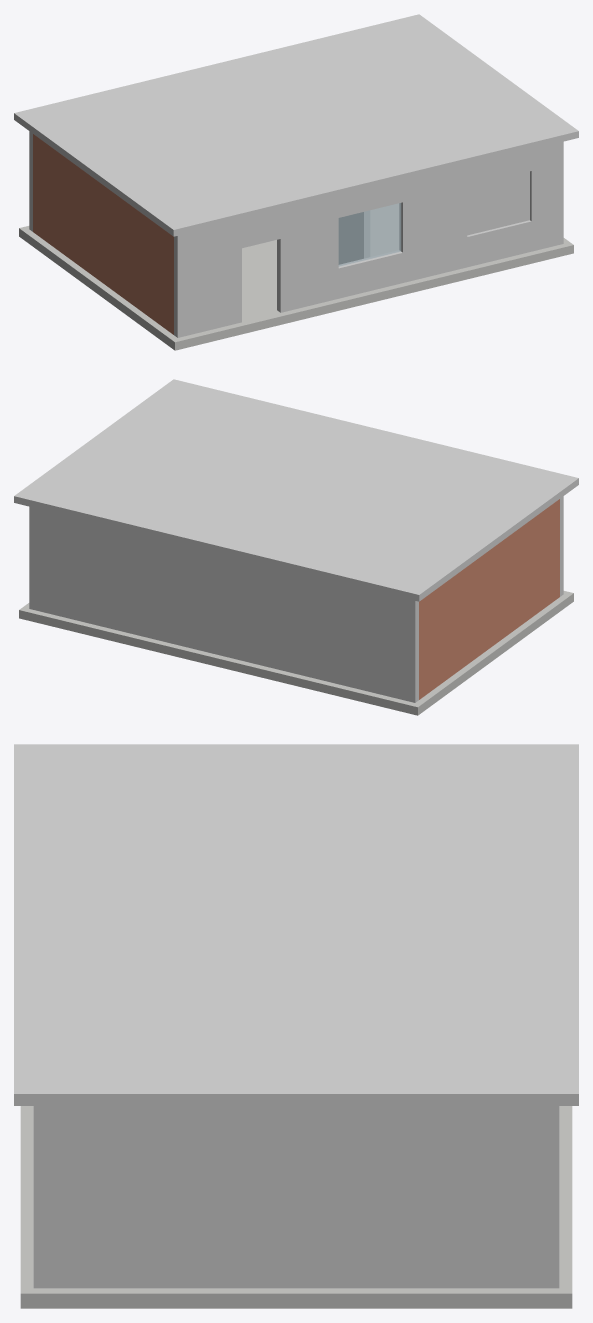
Rendered from twin.glb.
The picture shows the model from 3 angles, top to bottom: view 1: azimuth 30°, elevation 25°; view 2: azimuth 150°, elevation 25°; view 3: azimuth 270°, elevation 25°; orthographic projection. The views are drawn at different scales.
Parts seen in each view (by area): view 1: Shape@/OB_Roof/Shape[1], Shape@/OB_West_wall/Shape[1], Shape@/OB_Ground_slab/Shape[1], Shape@/OB_South_pier_1/Shape[1], Shape@/OB_South_pier_3/Shape[1], Shape@/OB_South_pier_2/Shape[1], Shape@/OB_South_pier_4/Shape[1], Shape@/OB_Window_2_glazing/Shape[1], Shape@/OB_Window_1_glazing/Shape[1], Shape@/OB_Window_1_sill/Shape[1], Shape@/OB_Window_2_sill/Shape[1], Shape@/OB_Partition_south/Shape[1] (+3 smaller); view 2: Shape@/OB_Roof/Shape[1], Shape@/OB_North_wall/Shape[1], Shape@/OB_West_wall/Shape[1], Shape@/OB_Ground_slab/Shape[1]; view 3: Shape@/OB_Roof/Shape[1], Shape@/OB_East_wall/Shape[1], Shape@/OB_Ground_slab/Shape[1], Shape@/OB_North_wall/Shape[1], Shape@/OB_South_pier_4/Shape[1].
Boxes of the visible parts, x1,y1,x2,y2 form: Shape@/OB_Roof/Shape[1]: (14,14,578,236); Shape@/OB_West_wall/Shape[1]: (33,134,173,334); Shape@/OB_Ground_slab/Shape[1]: (19,203,573,350); Shape@/OB_South_pier_1/Shape[1]: (174,220,241,337); Shape@/OB_South_pier_3/Shape[1]: (399,165,467,282); Shape@/OB_South_pier_2/Shape[1]: (277,196,338,312); Shape@/OB_South_pier_4/Shape[1]: (530,141,563,251); Shape@/OB_Window_2_glazing/Shape[1]: (467,171,529,235); Shape@/OB_Window_1_glazing/Shape[1]: (338,203,401,266); Shape@/OB_Window_1_sill/Shape[1]: (338,250,402,298); Shape@/OB_Window_2_sill/Shape[1]: (467,220,531,267); Shape@/OB_Partition_south/Shape[1]: (339,210,369,264); Shape@/OB_Roof/Shape[1]: (14,379,578,601); Shape@/OB_North_wall/Shape[1]: (29,506,418,702); Shape@/OB_West_wall/Shape[1]: (419,499,559,699); Shape@/OB_Ground_slab/Shape[1]: (19,591,573,715); Shape@/OB_Roof/Shape[1]: (14,744,578,1105); Shape@/OB_East_wall/Shape[1]: (47,1106,545,1288); Shape@/OB_Ground_slab/Shape[1]: (20,1106,572,1308); Shape@/OB_North_wall/Shape[1]: (546,1106,559,1288); Shape@/OB_South_pier_4/Shape[1]: (33,1106,46,1288).
Size of what is drawn, in the model's own units: 12.6 by 3.65 by 8.6.
